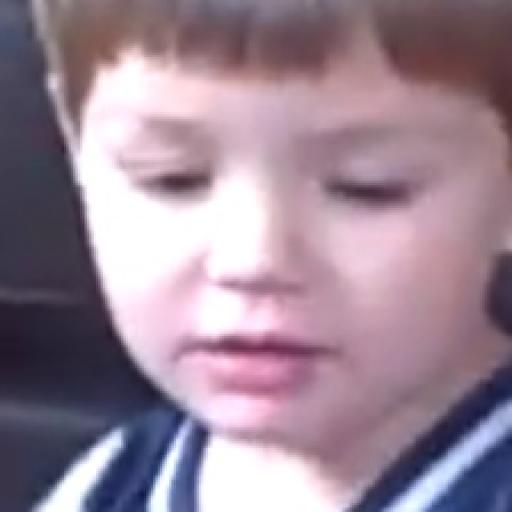Autism: (50, 2, 512, 478)
